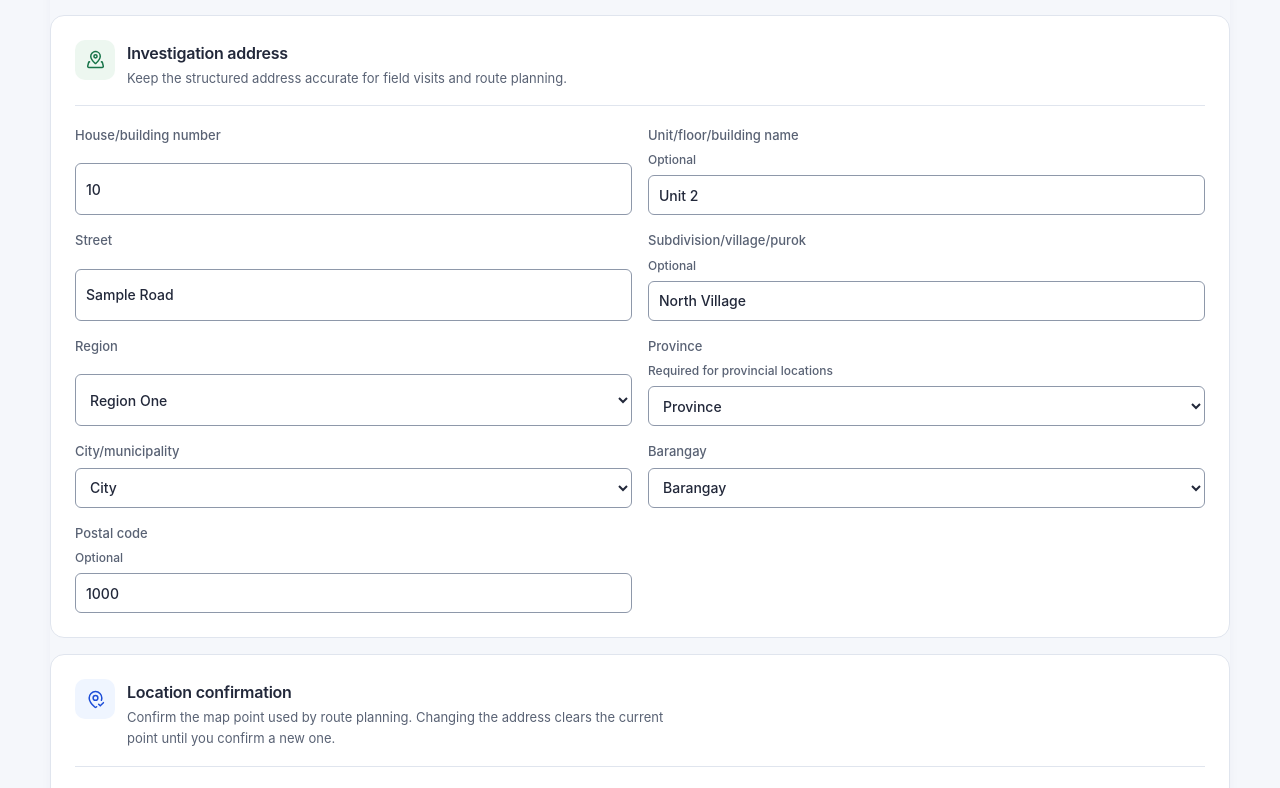
Test: InvestigationFormPage edit layout › clears dependent address selections when the region changes
(page scrolled)
Select "Region Two" in the dropdown labelled "Region" at (354, 400), box [75,374,632,426]
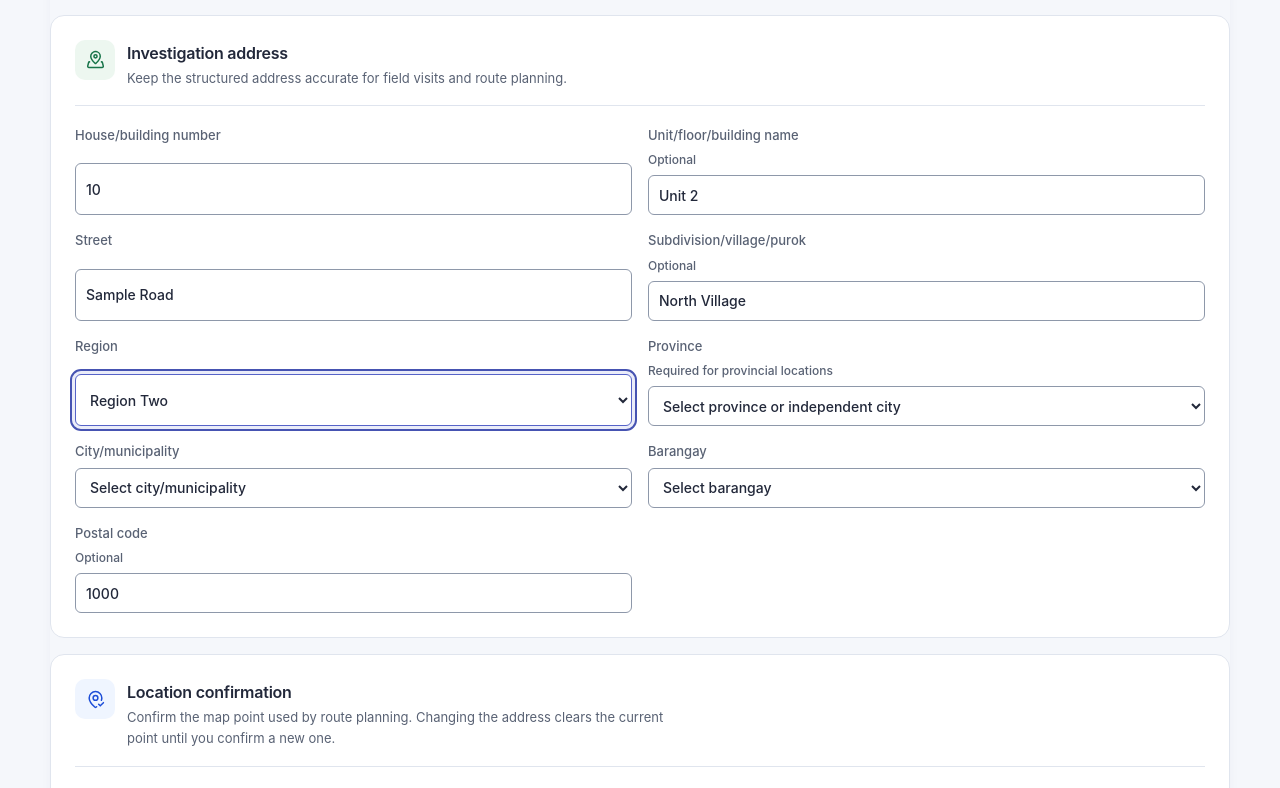
Check: the dropdown labelled "Province Required for provincial locations" shows "Select province or independent city", box [648,386,1205,426]
Check: the dropdown labelled "City/municipality" shows "Select city/municipality", box [75,468,632,508]
Check: the dropdown labelled "Barangay" shows "Select barangay", box [648,468,1205,508]
